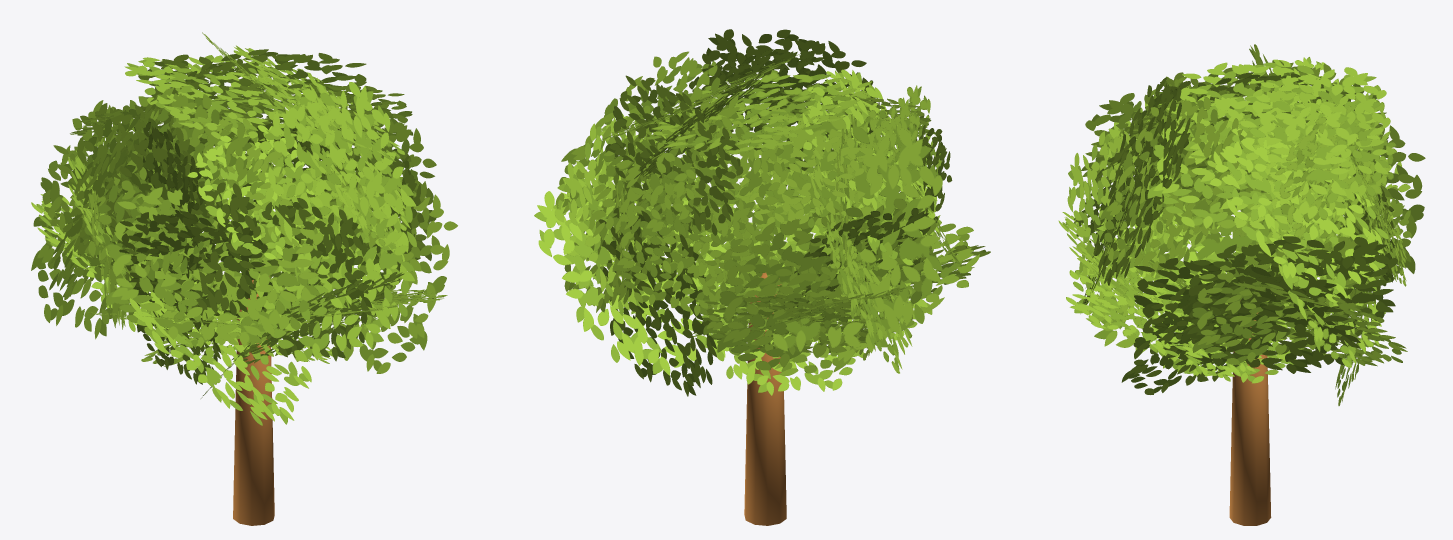
File: tree2.fbx
The picture shows the model from 3 angles, left to right: view 1: azimuth 30°, elevation 25°; view 2: azimuth 150°, elevation 25°; view 3: azimuth 270°, elevation 25°; orthographic projection. The views are drawn at different scales.
Visible parts, largest first — view 1: Sphere.009, Cylinder.008; view 2: Sphere.009, Cylinder.008; view 3: Sphere.009, Cylinder.008.
Part boxes in pixels (<box>): Sphere.009: <box>31,32,457,425</box>; Cylinder.008: <box>233,270,274,525</box>; Sphere.009: <box>534,29,990,396</box>; Cylinder.008: <box>744,272,786,525</box>; Sphere.009: <box>1058,44,1425,405</box>; Cylinder.008: <box>1229,300,1271,525</box>.
Size of the model in its own units: 905 by 946 by 767.
